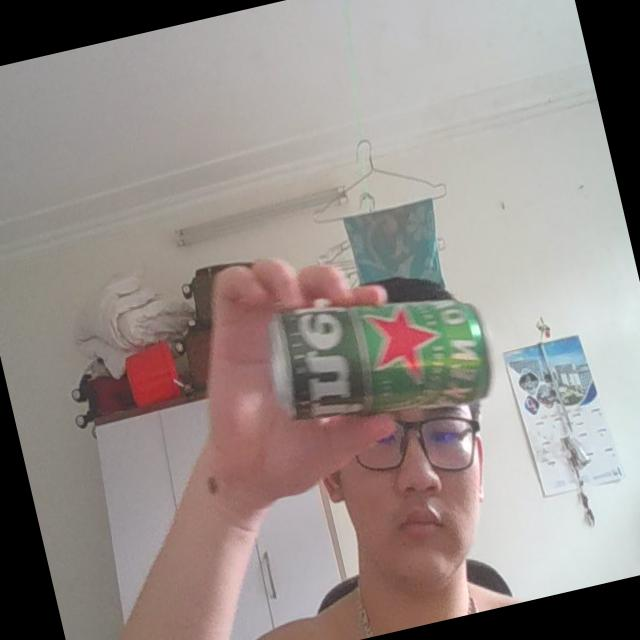Heineken: (259, 267, 502, 442)
